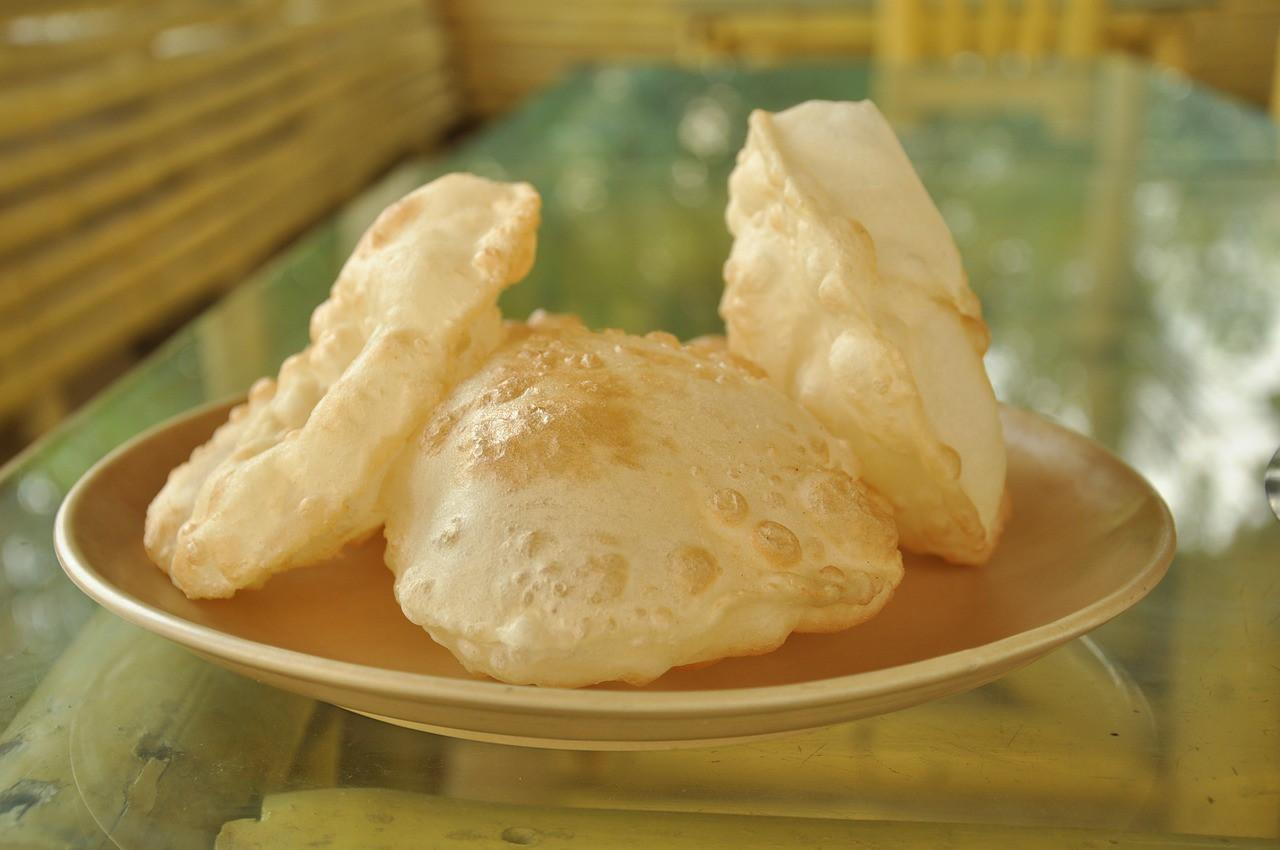Bhatura: (384, 312, 902, 685), (144, 172, 542, 603), (717, 100, 1005, 565)
